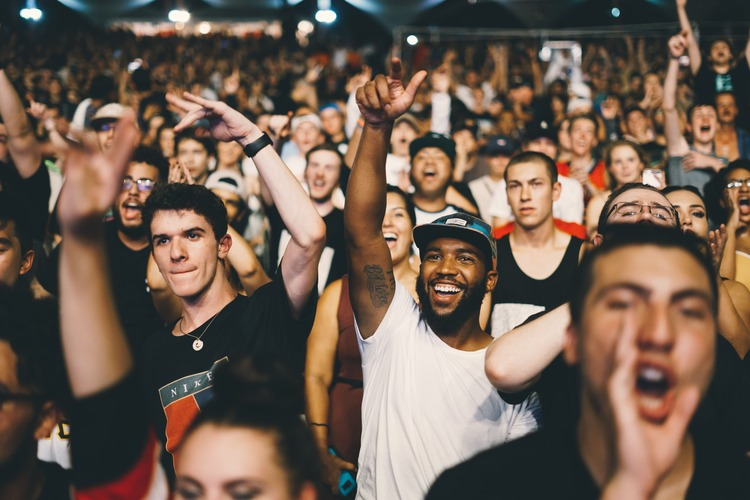without_mask: (582, 257, 710, 419), (420, 236, 482, 328), (150, 209, 216, 294), (368, 188, 409, 257), (116, 159, 155, 225), (507, 167, 548, 219), (416, 144, 449, 190)
